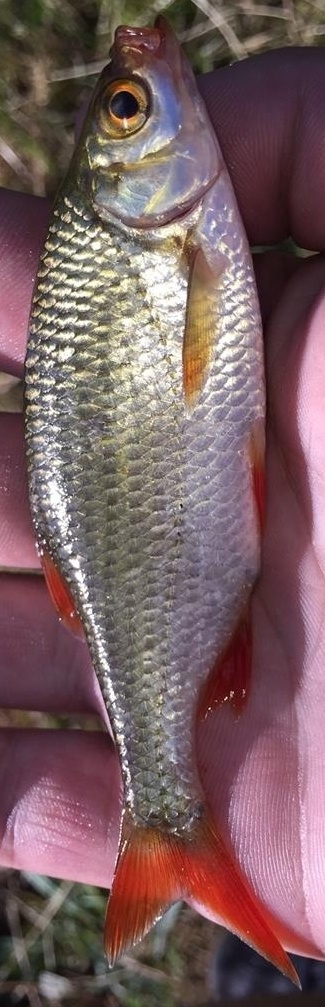Rutilus rutilus: (20, 20, 305, 991)
